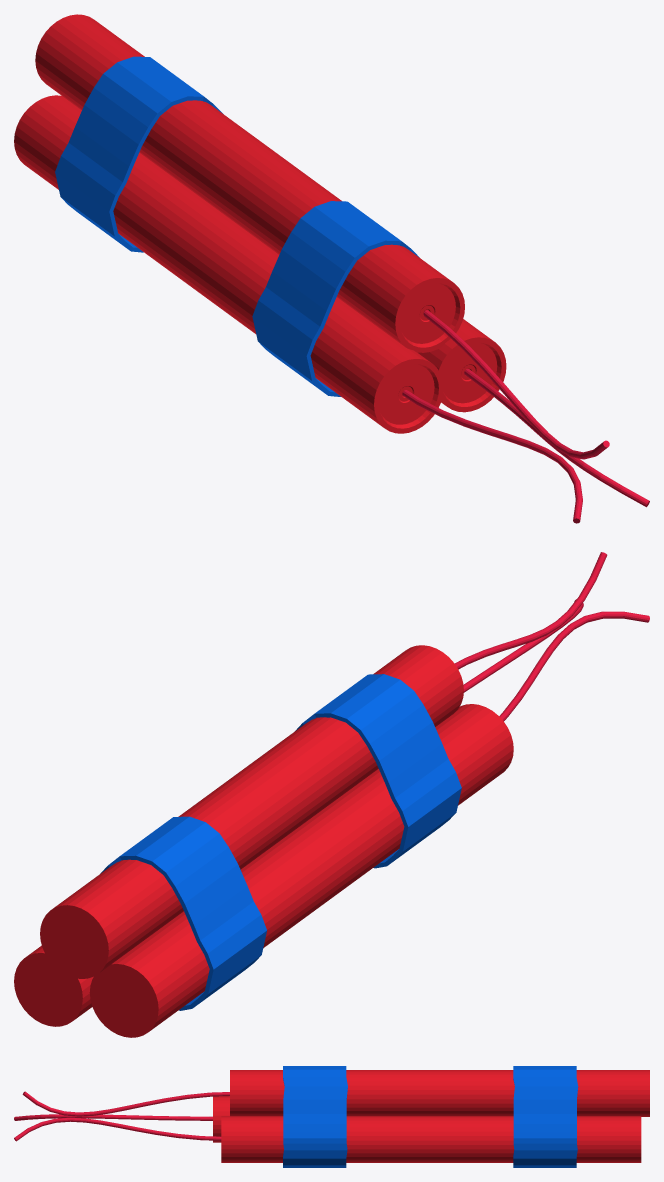
Rendered from Dynamite 1.fbx.
3 views of the same model, one above another, from view 1: azimuth 30°, elevation 25°; view 2: azimuth 150°, elevation 25°; view 3: azimuth 270°, elevation 25° (orthographic). The views are drawn at different scales.
Visible parts, largest first — view 1: Cylinder.002, Cylinder.001, Circle, Circle.001, Cylinder.003, BezierCurve.004, BezierCurve.003, BezierCurve; view 2: Cylinder.002, Cylinder.001, Circle, Circle.001, Cylinder.003, BezierCurve.003, BezierCurve.004, BezierCurve; view 3: Cylinder.003, Cylinder.002, Circle.001, Circle, BezierCurve, BezierCurve.004, BezierCurve.003, Cylinder.001.
Boxes of the visible parts, <box> form: Cylinder.002: <box>35,14,464,352</box>; Cylinder.001: <box>14,95,443,433</box>; Circle: <box>252,201,419,396</box>; Circle.001: <box>55,56,222,252</box>; Cylinder.003: <box>418,319,506,412</box>; BezierCurve.004: <box>423,310,609,459</box>; BezierCurve.003: <box>402,390,582,523</box>; BezierCurve: <box>464,369,649,507</box>; Cylinder.002: <box>40,645,463,978</box>; Cylinder.001: <box>89,704,513,1037</box>; Circle: <box>295,674,461,868</box>; Circle.001: <box>100,816,266,1010</box>; Cylinder.003: <box>14,945,93,1026</box>; BezierCurve.003: <box>499,611,649,721</box>; BezierCurve.004: <box>454,552,607,669</box>; BezierCurve: <box>463,599,583,692</box>; Cylinder.003: <box>221,1116,641,1162</box>; Cylinder.002: <box>230,1070,649,1116</box>; Circle.001: <box>513,1066,578,1167</box>; Circle: <box>283,1066,347,1167</box>; BezierCurve: <box>14,1117,221,1141</box>; BezierCurve.004: <box>22,1091,229,1116</box>; BezierCurve.003: <box>14,1114,212,1120</box>; Cylinder.001: <box>213,1096,229,1142</box>.
Size of the model in its own units: 34.88 by 31.59 by 213.
